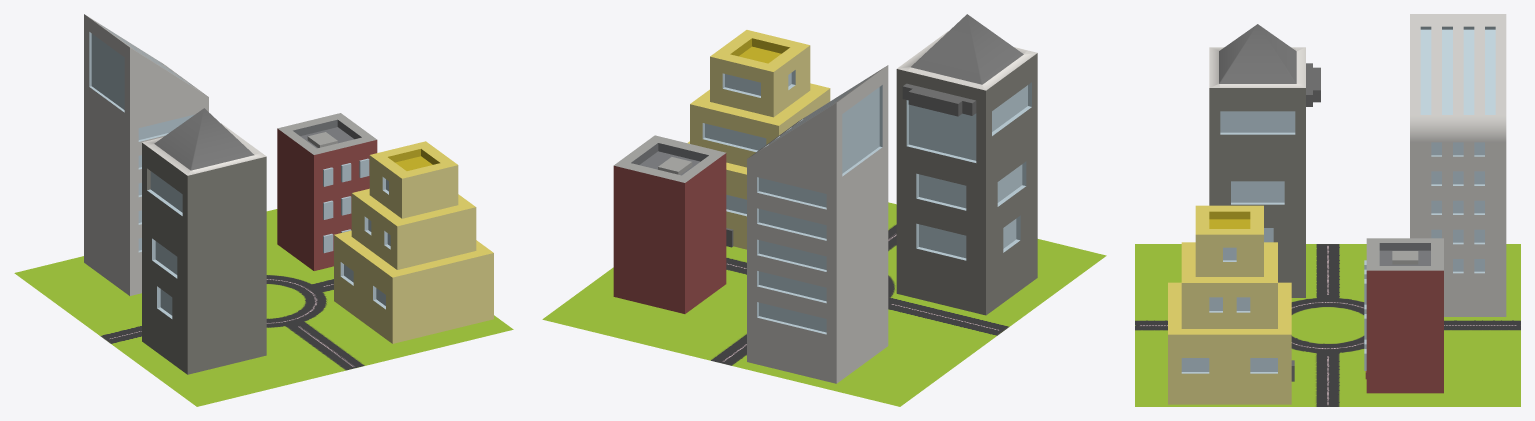
File: Buildings_3.fbx
The picture shows the model from 3 angles, left to right: view 1: azimuth 30°, elevation 25°; view 2: azimuth 150°, elevation 25°; view 3: azimuth 270°, elevation 25°; orthographic projection. The views are drawn at different scales.
Visible parts, largest first — view 1: level_3_2, level_3_3, Plane, level_3_1, level_3_4; view 2: level_3_2, level_3_1, Plane, level_3_4, level_3_3; view 3: level_3_1, Plane, level_3_3, level_3_2, level_3_4.
Boxes of the visible parts, <box> form: level_3_2: <box>142,108,266,374</box>; level_3_3: <box>334,141,493,343</box>; Plane: <box>14,209,513,406</box>; level_3_1: <box>84,14,208,295</box>; level_3_4: <box>277,113,377,270</box>; level_3_2: <box>896,14,1037,315</box>; level_3_1: <box>747,65,888,383</box>; Plane: <box>542,202,1106,406</box>; level_3_4: <box>613,135,726,313</box>; level_3_3: <box>687,30,830,249</box>; level_3_1: <box>1410,14,1506,316</box>; Plane: <box>1135,244,1520,406</box>; level_3_3: <box>1168,205,1294,404</box>; level_3_2: <box>1209,24,1320,297</box>; level_3_4: <box>1364,238,1443,393</box>.
Bounding box in the file's own units: 20 × 15 × 20.
13 materials, 1 textured.
